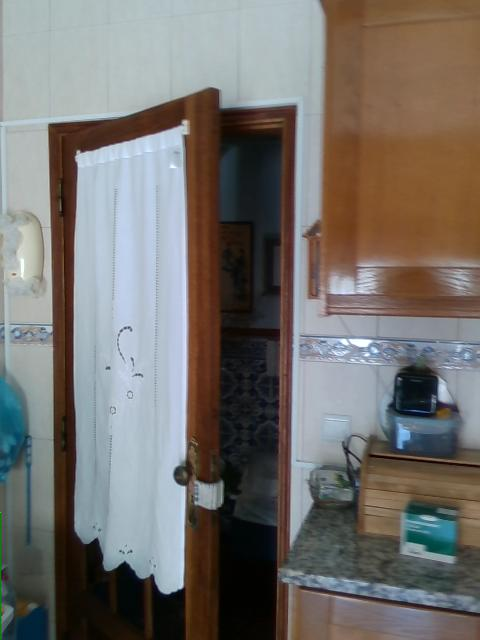semi_door: (41, 87, 298, 639)
